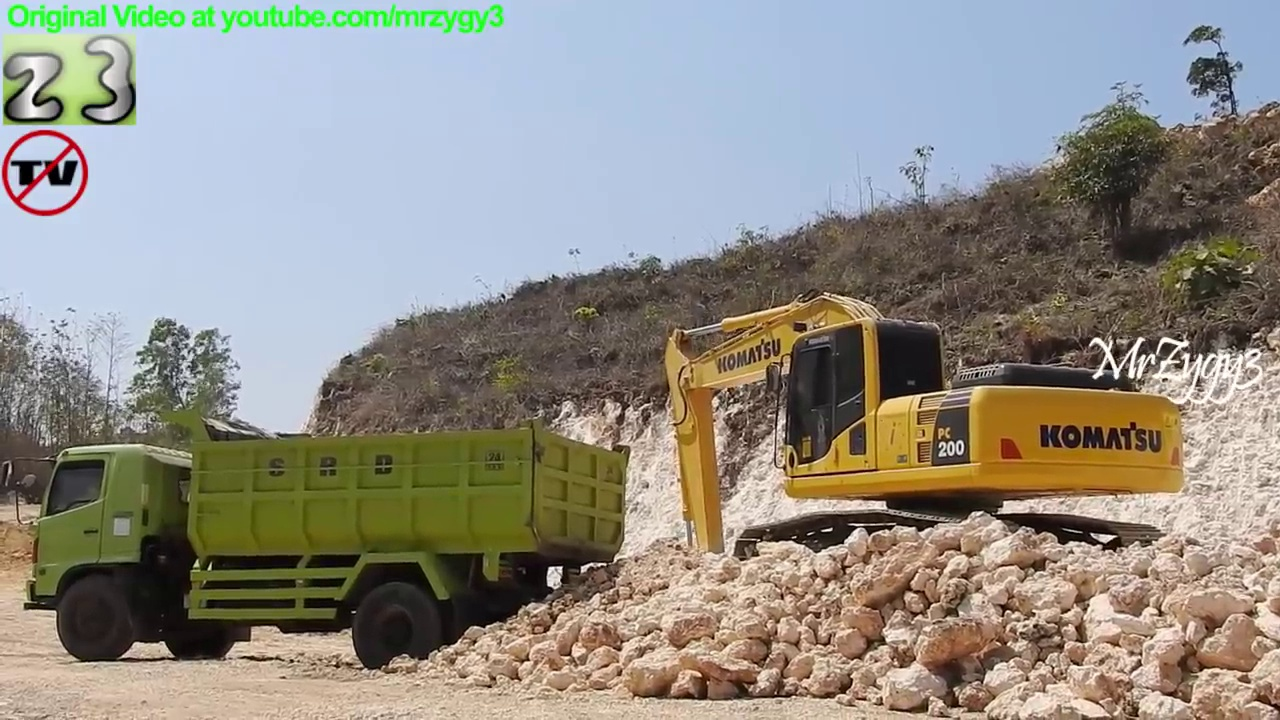excavator: (648, 286, 1199, 636)
truck: (1, 399, 634, 681)
